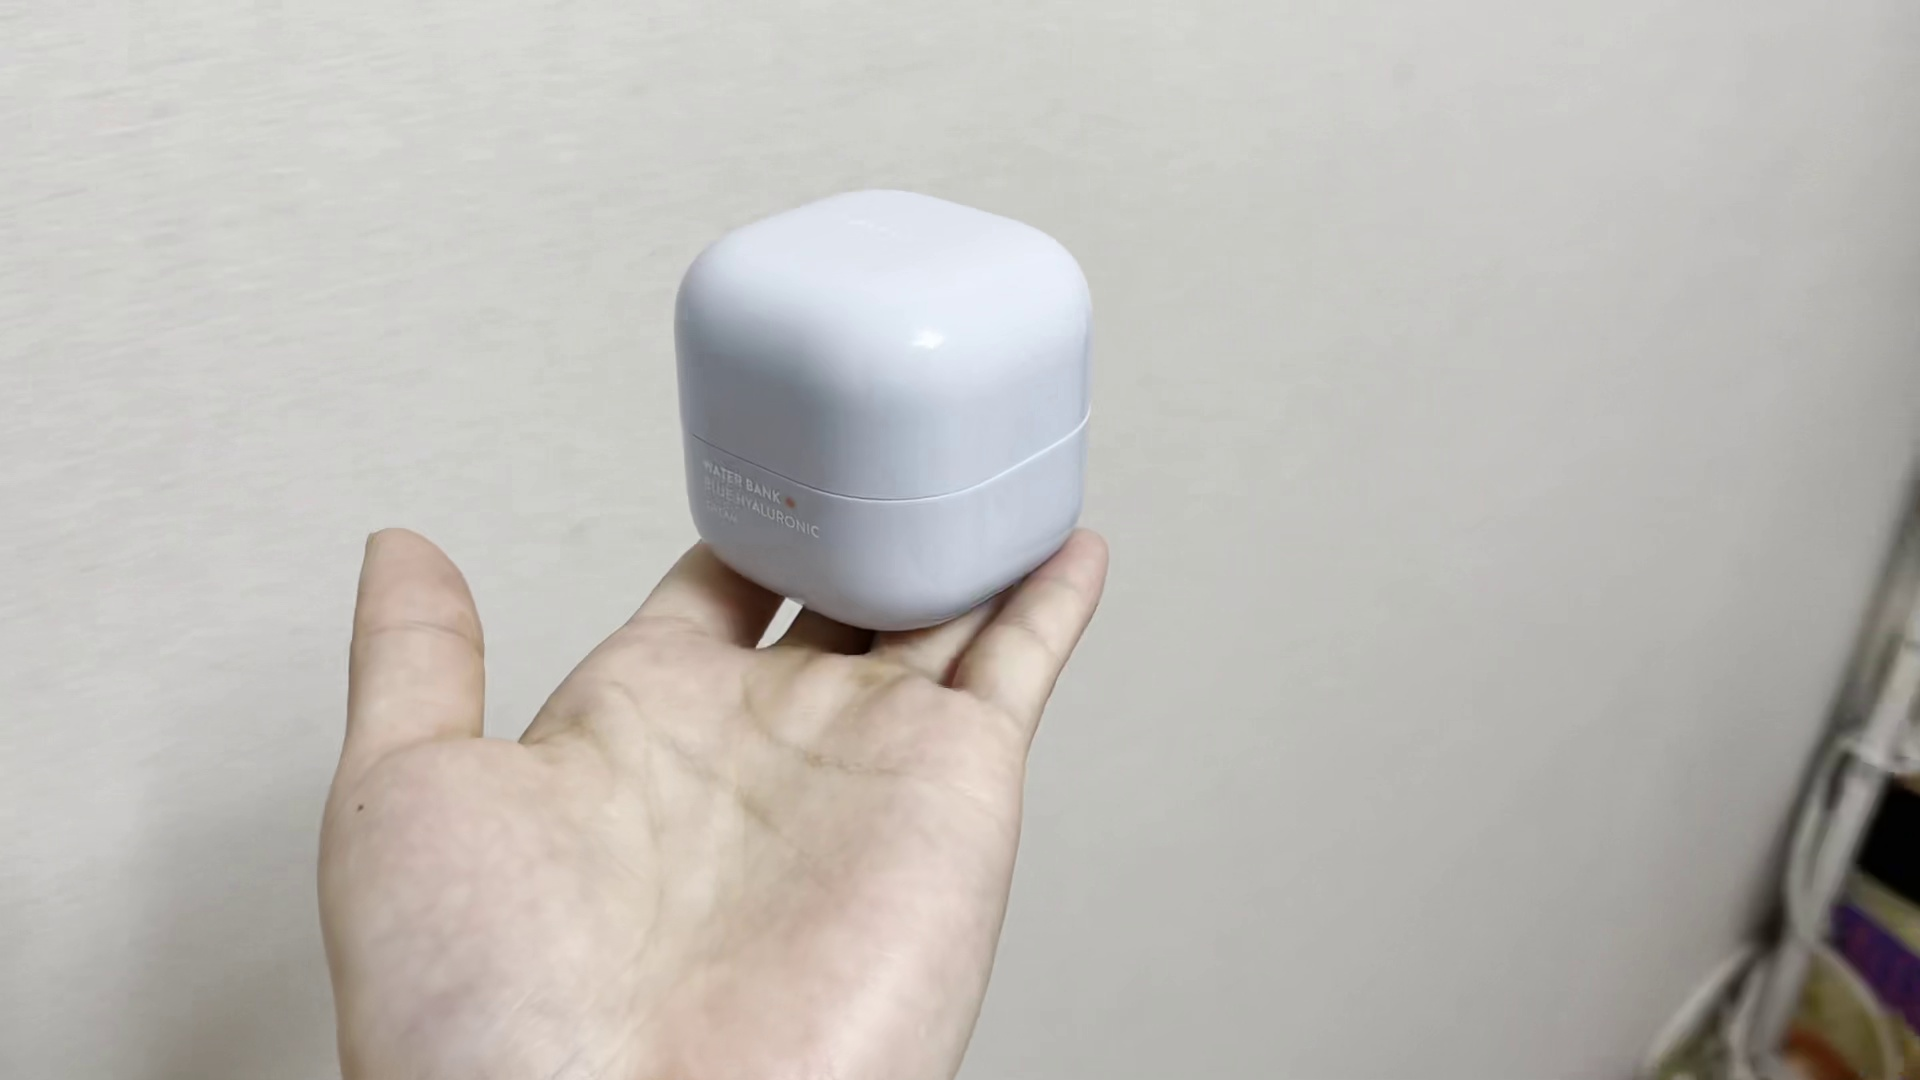cream: (674, 189, 1095, 628)
